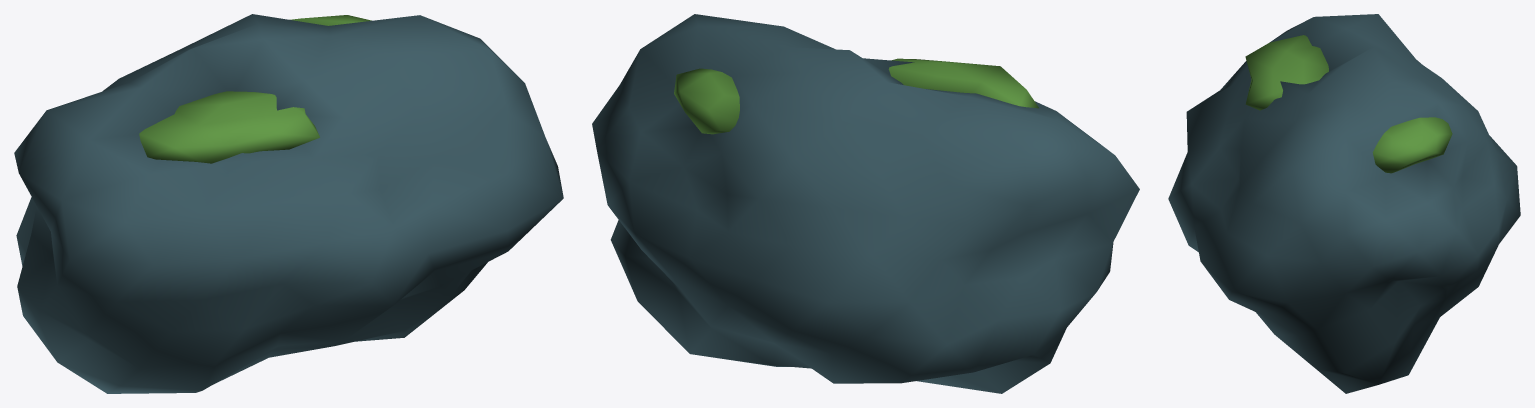
The model's file is rock_a.glb.
3 views of the same model, side by side, from view 1: azimuth 30°, elevation 25°; view 2: azimuth 150°, elevation 25°; view 3: azimuth 270°, elevation 25° (orthographic). The views are drawn at different scales.
Parts seen in each view (by area): view 1: rock_a_mesh; view 2: rock_a_mesh; view 3: rock_a_mesh.
Part boxes in pixels (bbox=[...]): rock_a_mesh: bbox=[14, 14, 563, 393]; rock_a_mesh: bbox=[592, 14, 1139, 393]; rock_a_mesh: bbox=[1168, 14, 1520, 393].
Size of the model in its own units: 2.83 by 1.78 by 2.07.
